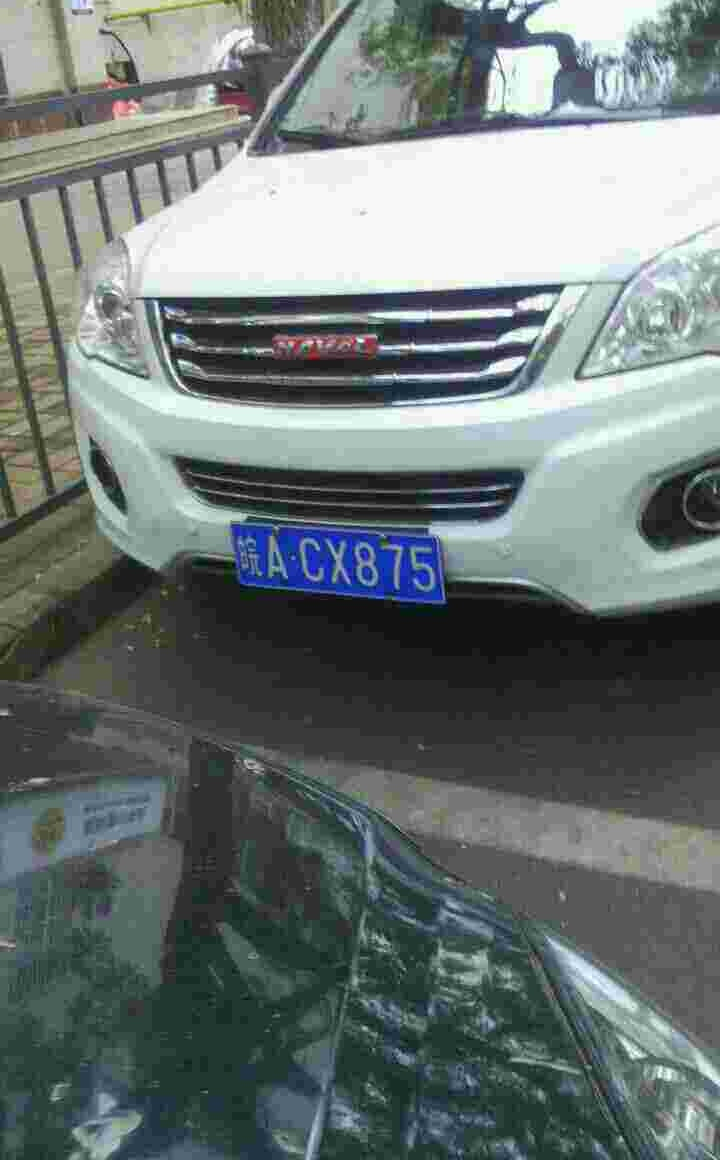plate: (226, 516, 449, 607)
